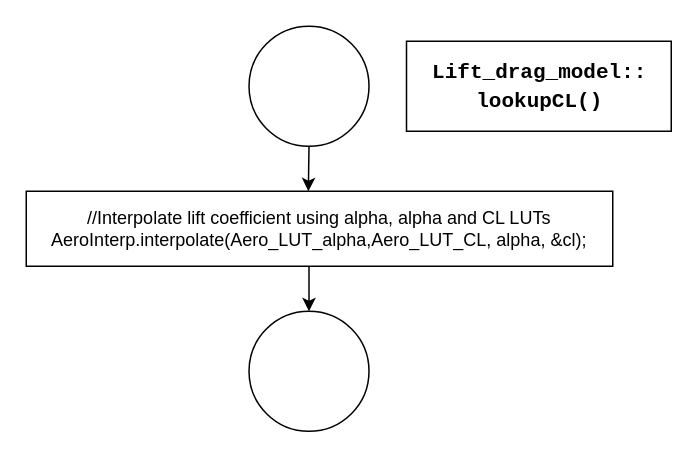
This 698x458 diagram has some shape labels left out. Here are the shapes that lost their labels. From the top down, the centre of each, then its label:
At point (308, 85): "Start".
At point (308, 370): "End".
